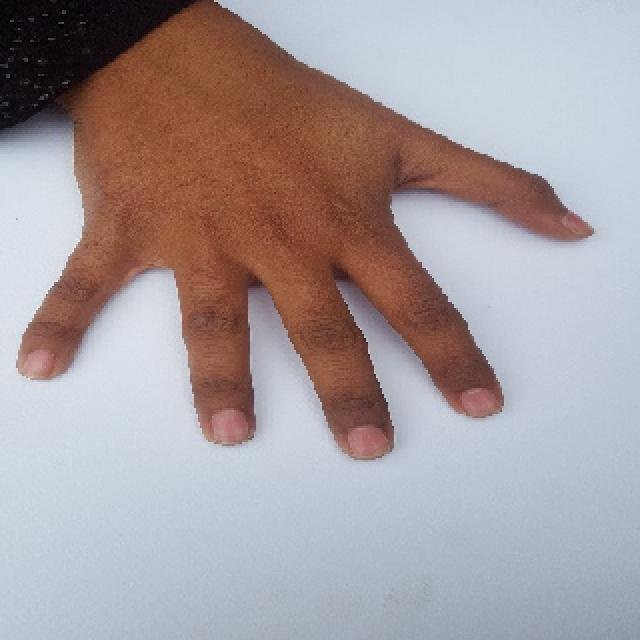Nail: (348, 425, 390, 459), (211, 409, 250, 445), (460, 388, 500, 417), (22, 350, 55, 379), (561, 211, 594, 238)
